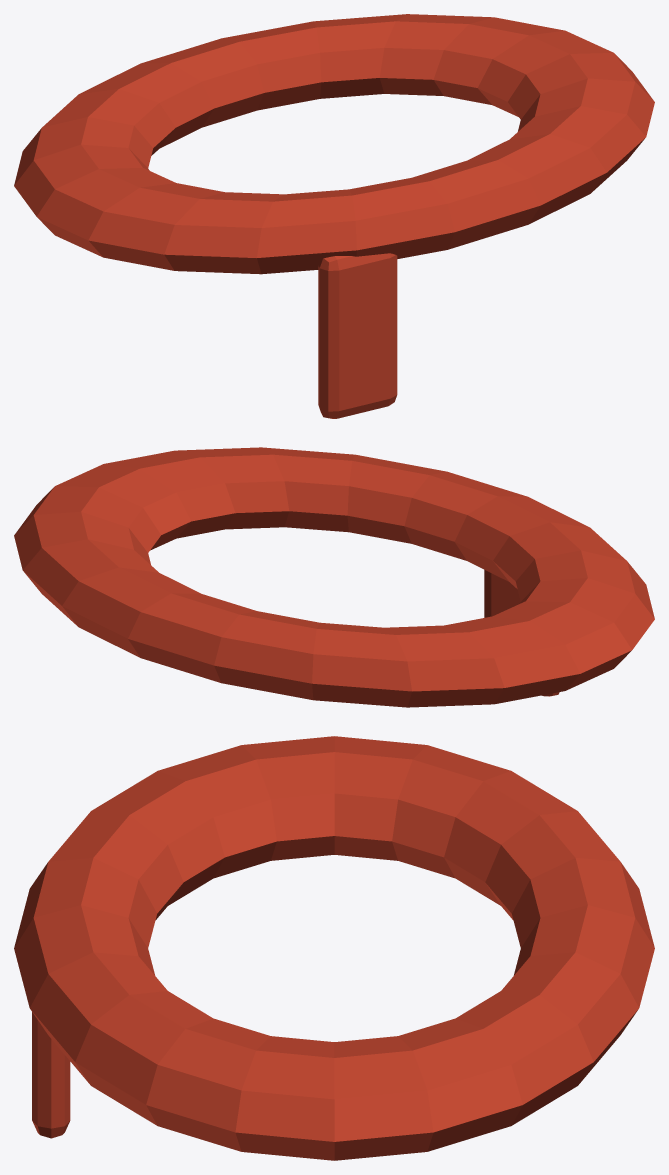
The model's file is scarf.glb.
3 views of the same model, one above another, from view 1: azimuth 30°, elevation 25°; view 2: azimuth 150°, elevation 25°; view 3: azimuth 270°, elevation 25° (orthographic). The views are drawn at different scales.
Visible parts, largest first — view 1: scarf, scarf-tail; view 2: scarf, scarf-tail; view 3: scarf, scarf-tail.
Boxes of the visible parts, x1,y1,x2,y2 form: scarf: (14, 14, 654, 274); scarf-tail: (318, 253, 397, 418); scarf: (14, 447, 654, 707); scarf-tail: (484, 570, 559, 696); scarf: (14, 736, 654, 1160); scarf-tail: (32, 1012, 70, 1138).
Size of the model in its own units: 0.43 by 0.14 by 0.301.
